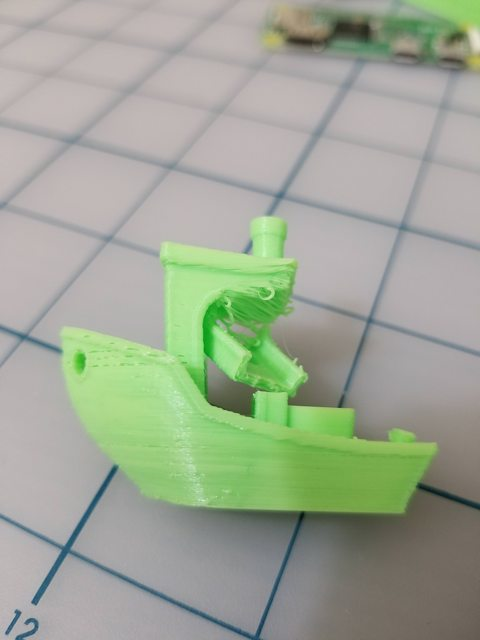Spaghetti: (196, 267, 338, 424)
